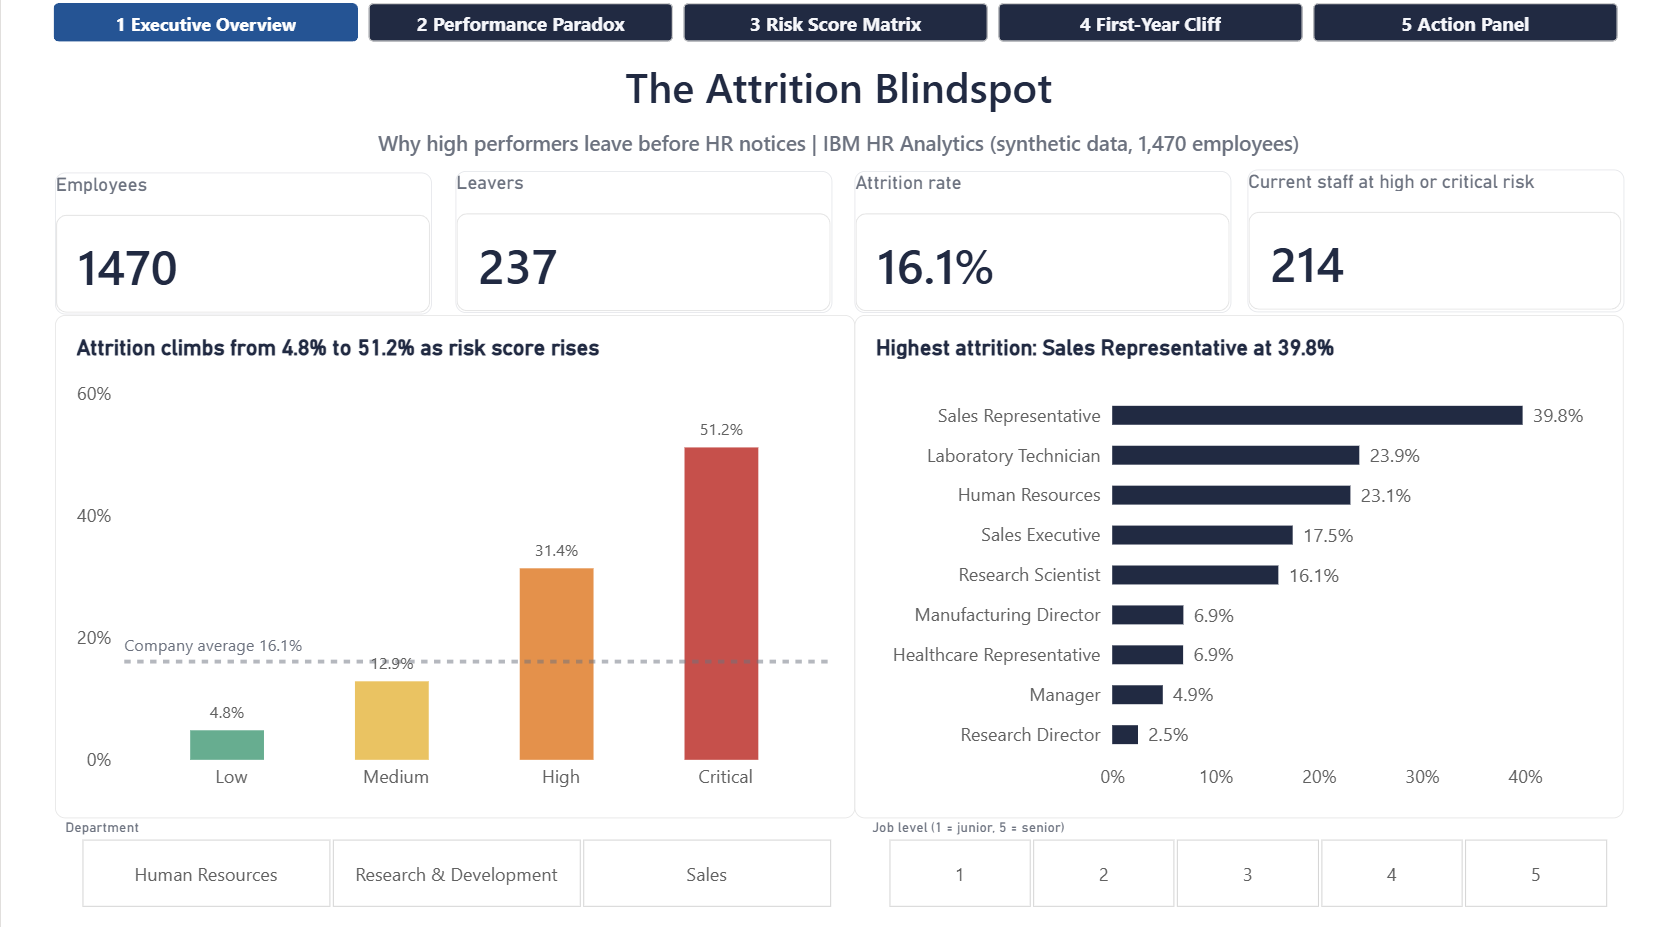

The page's visual inventory and layout, read from the dashboard file:
{"tool":"powerbi","page":{"name":"1 Executive Overview","canvas":[1280,720],"ordinal":1},"visuals":[{"type":"textbox","box":[41.8,45.3,1214.5,51.1],"z":0},{"type":"textbox","box":[41.8,100,1214.5,31.4],"z":1000},{"type":"cardVisual","title":"Employees","fields":{"Data":["select","_Measures.Headcount Label"]},"box":[41.8,133.7,292,110],"z":2000},{"type":"cardVisual","title":"Leavers","fields":{"Data":["select","_Measures.Leavers"]},"box":[352.2,132.5,292,110],"z":3000},{"type":"cardVisual","title":"Attrition rate","fields":{"Data":["select","_Measures.Attrition Rate"]},"box":[661.3,132.5,292,110],"z":4000},{"type":"cardVisual","title":"Current staff at high or critical risk","fields":{"Data":["select","_Measures.Current Staff at High or Critical Risk"]},"box":[965.8,131.3,291.7,110.4],"z":5000},{"type":"clusteredColumnChart","fields":{"Category":["employees.Risk Band"],"Y":["_Measures.Attrition Rate"]},"box":[41.8,244.1,620,390],"z":6000},{"type":"clusteredBarChart","fields":{"Category":["employees.job_role"],"Y":["_Measures.Attrition Rate"]},"box":[661.3,244.1,596,390],"z":7000},{"type":"slicer","fields":{"Values":["employees.department"]},"box":[41.8,634.6,620,70],"z":8000},{"type":"slicer","fields":{"Values":["employees.job_level"]},"box":[667.1,634.6,596,70],"z":9000},{"type":"pageNavigator","box":[41,2,1214.5,30],"z":9001}]}

Visuals, with their boxes in screenshot pixels (x1, y1, x2, y2), scaled from the page's 1280x720 canvas onto the 1653x927 screenshot:
textbox: (left=54, top=58, right=1622, bottom=124)
textbox: (left=54, top=129, right=1622, bottom=169)
"Employees" cardVisual: (left=54, top=172, right=431, bottom=314)
"Leavers" cardVisual: (left=455, top=171, right=832, bottom=312)
"Attrition rate" cardVisual: (left=854, top=171, right=1231, bottom=312)
"Current staff at high or critical risk" cardVisual: (left=1247, top=169, right=1624, bottom=311)
clusteredColumnChart - employees.Risk Band x _Measures.Attrition Rate: (left=54, top=314, right=855, bottom=816)
clusteredBarChart - employees.job_role x _Measures.Attrition Rate: (left=854, top=314, right=1624, bottom=816)
slicer - employees.department: (left=54, top=817, right=855, bottom=907)
slicer - employees.job_level: (left=861, top=817, right=1631, bottom=907)
pageNavigator: (left=53, top=3, right=1621, bottom=41)
